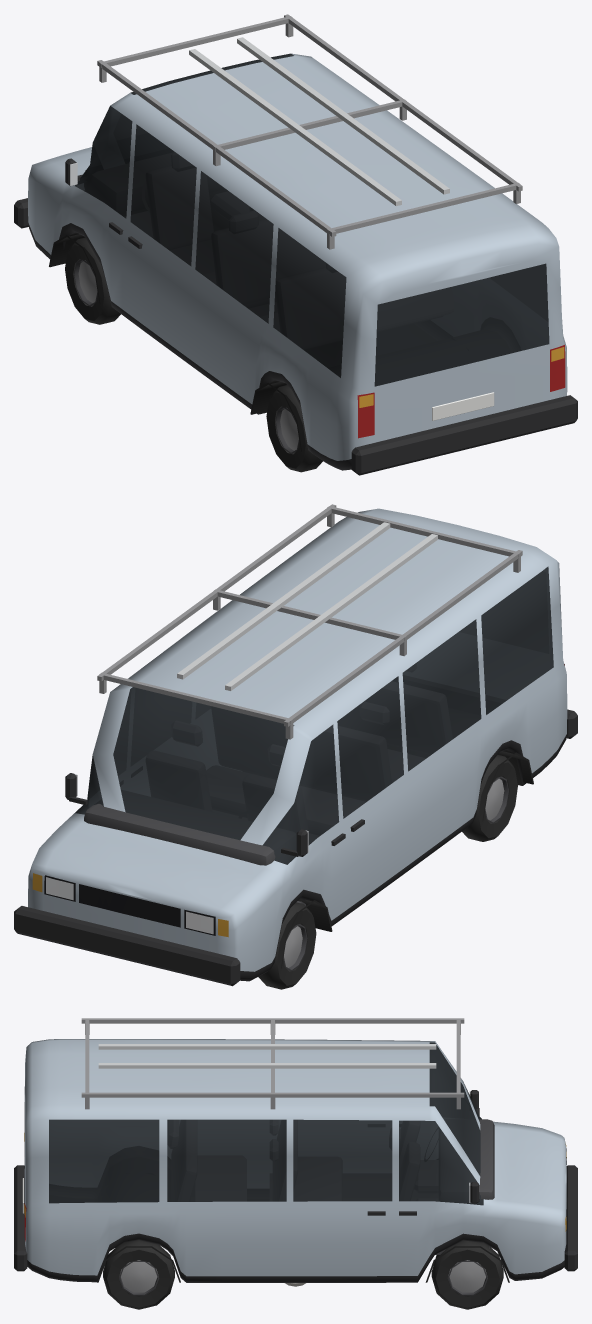
File: kombi_lod1.glb
3 renders of one model, top to bottom at view 1: azimuth 30°, elevation 25°; view 2: azimuth 150°, elevation 25°; view 3: azimuth 270°, elevation 25°, orthographic. The views are drawn at different scales.
Parts seen in each view (by area): view 1: body, wheelmesh_0, wheelmesh_2; view 2: body, wheelmesh_0, wheelmesh_2; view 3: body, wheelmesh_3, wheelmesh_1.
Part boxes in pixels (x1,y1,x2,y2): body: (14, 14, 577, 475); wheelmesh_0: (65, 237, 120, 324); wheelmesh_2: (266, 385, 322, 472); body: (14, 504, 577, 986); wheelmesh_0: (258, 902, 316, 989); wheelmesh_2: (462, 755, 517, 841); body: (14, 1018, 577, 1286); wheelmesh_3: (103, 1240, 174, 1309); wheelmesh_1: (431, 1240, 503, 1309).
Bounding box in the file's own units: 2 × 2.29 × 5.01.
